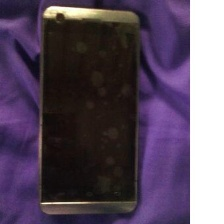phone: (34, 2, 145, 221)
